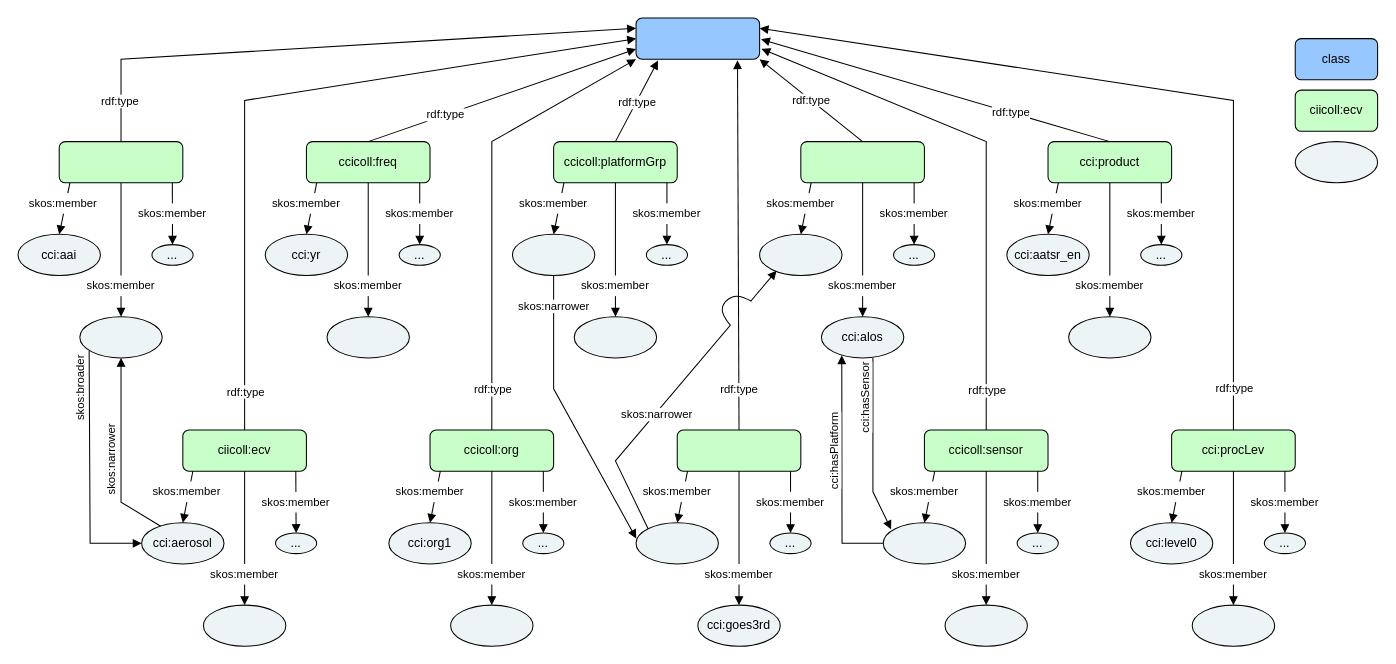
This 1396x664 diagram has some shape labels left out. The centre of each missing label's shape, as x and y in pixels:
"cci:aerProd" belongs at pixel 120 337.
"cci:cloud" belongs at pixel 244 625.
"cci:goes" belongs at pixel 553 254.
"cci:goes-8" belongs at pixel 800 254.
"cci:goes2nd" belongs at pixel 676 543.
"cci:level1A" belongs at pixel 1233 625.
"cci:merged" belongs at pixel 1109 337.
"cci:meris" belongs at pixel 985 625.
"cci:mo" belongs at pixel 367 337.
"cci:noaa" belongs at pixel 615 337.
"cci:org2" belongs at pixel 491 625.
"cci:palsar" belongs at pixel 924 543.
"ccicol:datatype" belongs at pixel 120 162.
"ccicoll:platform" belongs at pixel 862 162.
"ccicoll:platformProg" belongs at pixel 738 450.
"concept" belongs at pixel 1336 162.
"skos:Collection" belongs at pixel 697 38.
